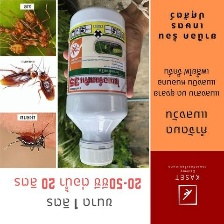insecticide: (63, 3, 131, 166)
